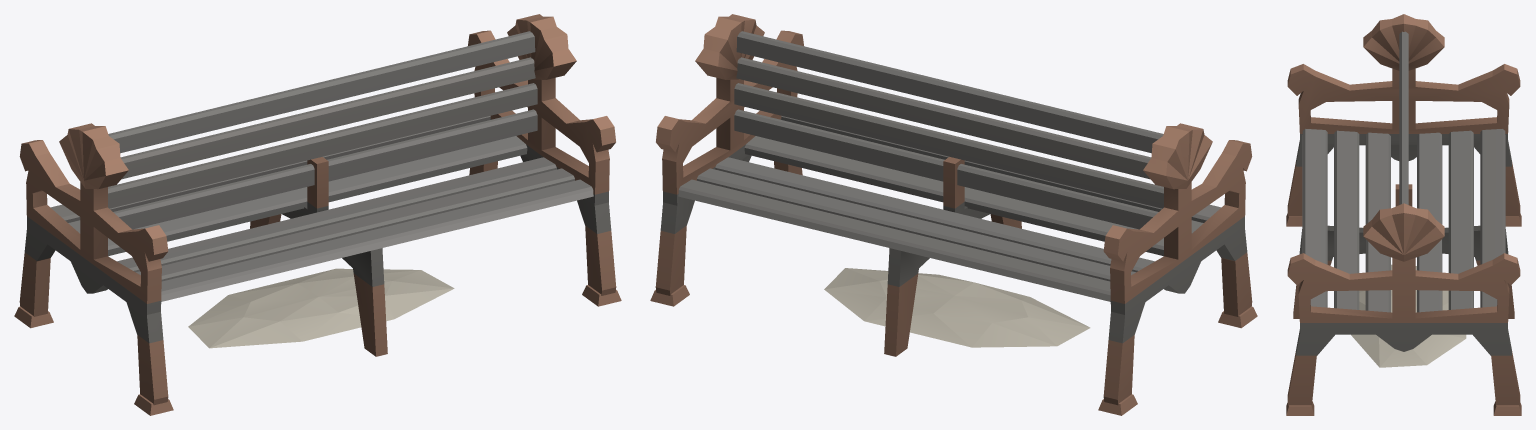
The model's file is bench.glb.
3 views of the same model, side by side, from view 1: azimuth 30°, elevation 25°; view 2: azimuth 150°, elevation 25°; view 3: azimuth 270°, elevation 25° (orthographic). The views are drawn at different scales.
Parts seen in each view (by area): view 1: bench.001; view 2: bench.001; view 3: bench.001.
Part boxes in pixels (box(x1,y1,x2,y2)): bench.001: box(14, 14, 621, 415); bench.001: box(650, 14, 1257, 415); bench.001: box(1286, 14, 1521, 415).
Size of the model in its own units: 2 by 0.95 by 1.
